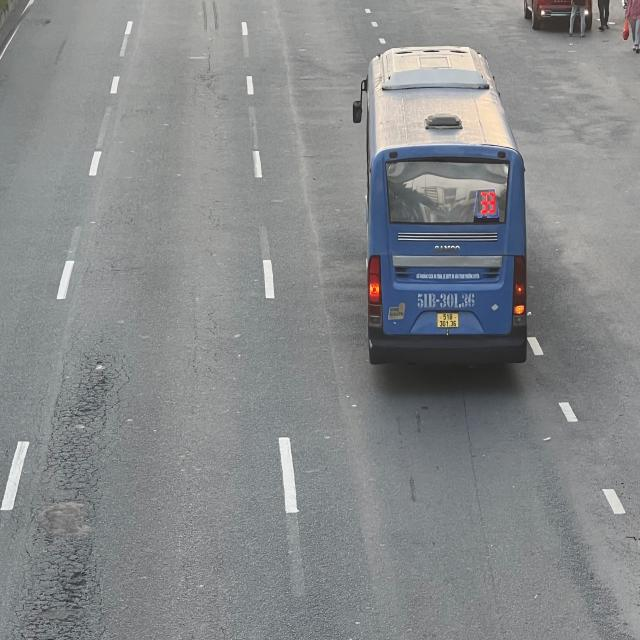coach: (361, 42, 528, 363)
